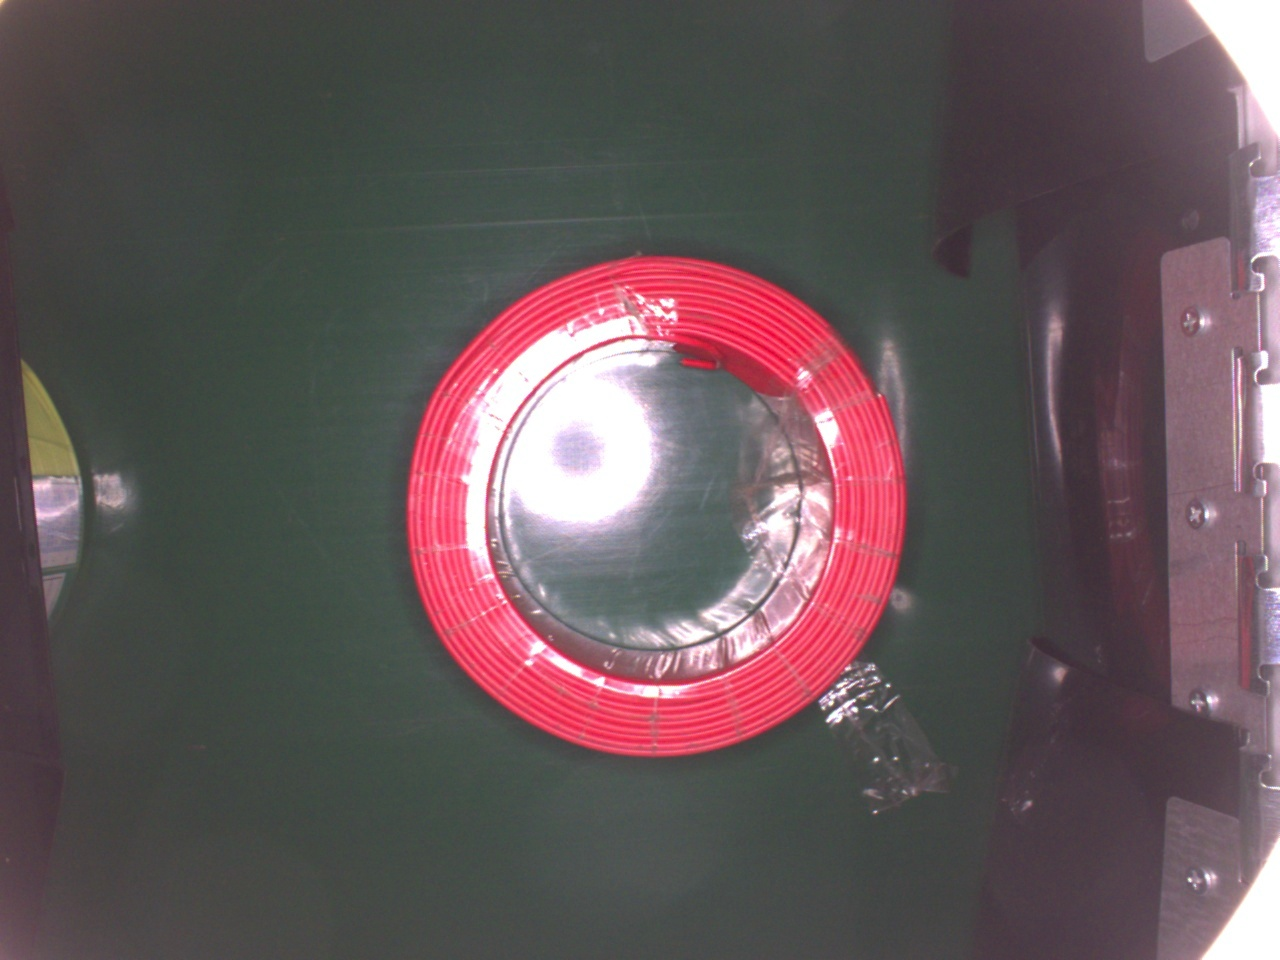red: (404, 250, 904, 760)
